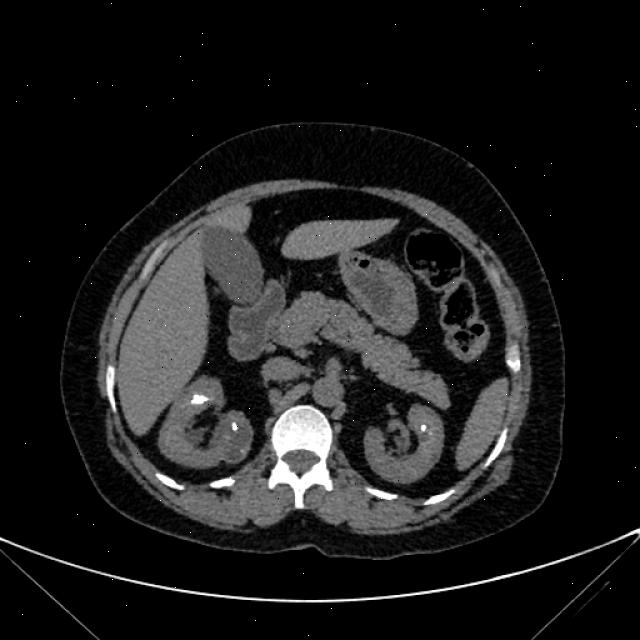kidneystone: (191, 394, 209, 404), (231, 421, 239, 432), (420, 424, 428, 432)
